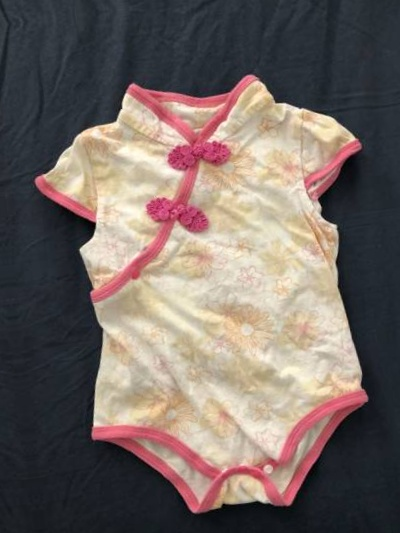Body: (11, 39, 400, 533), (0, 91, 13, 533)
